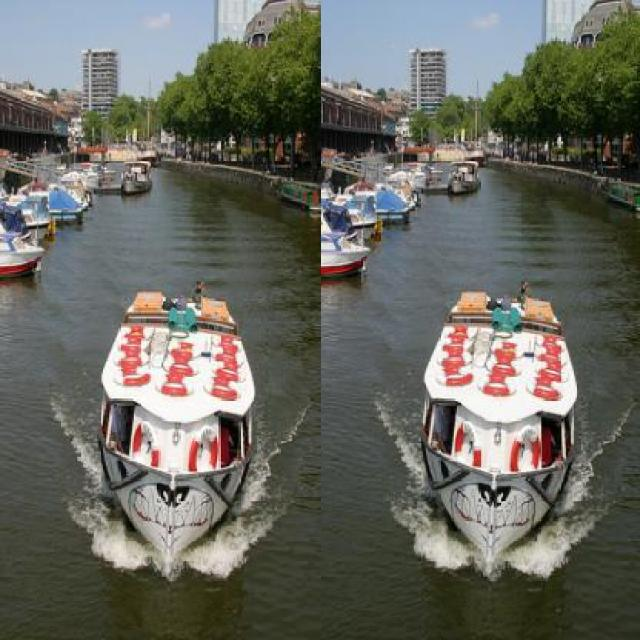ship: (93, 278, 258, 567), (418, 282, 578, 570), (418, 272, 578, 554), (95, 279, 257, 556), (421, 278, 577, 556), (318, 200, 370, 280), (5, 168, 84, 220), (320, 196, 368, 276), (0, 197, 45, 281), (344, 173, 414, 222), (0, 214, 45, 274), (442, 156, 482, 198), (116, 156, 152, 198), (118, 158, 153, 196), (445, 158, 480, 195), (383, 168, 417, 206), (15, 204, 53, 238), (344, 203, 376, 242), (344, 203, 378, 239), (15, 208, 52, 240)
